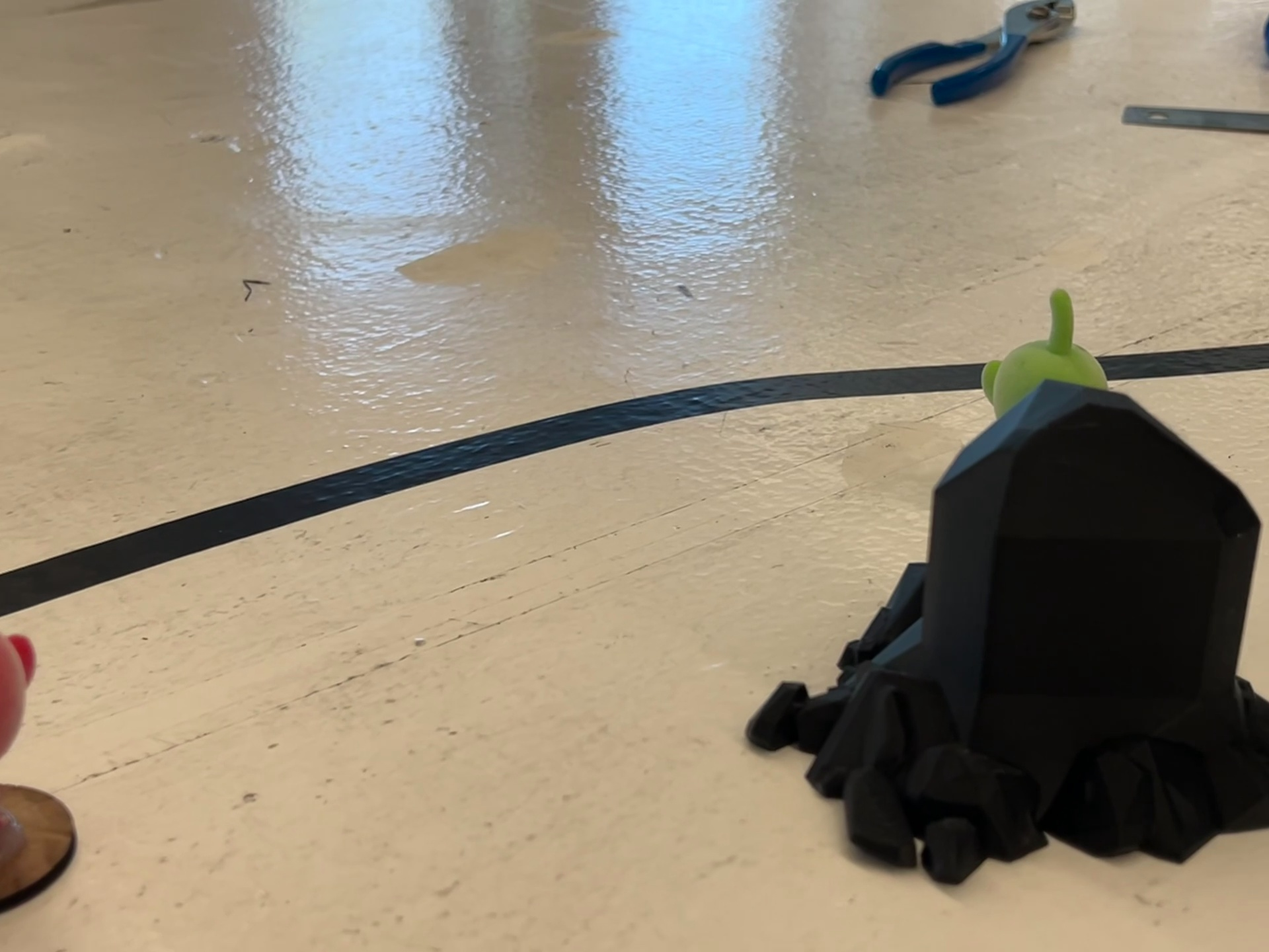teletubby: (981, 289, 1107, 418), (0, 634, 34, 756)
